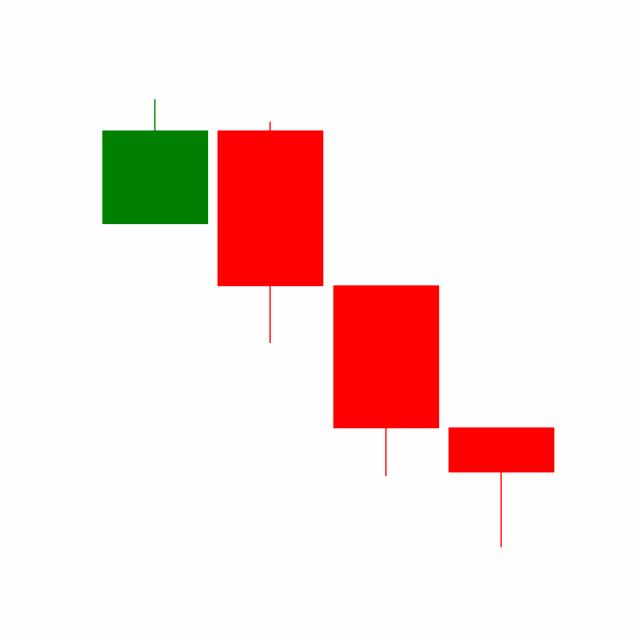Hammer: (443, 425, 559, 548)
